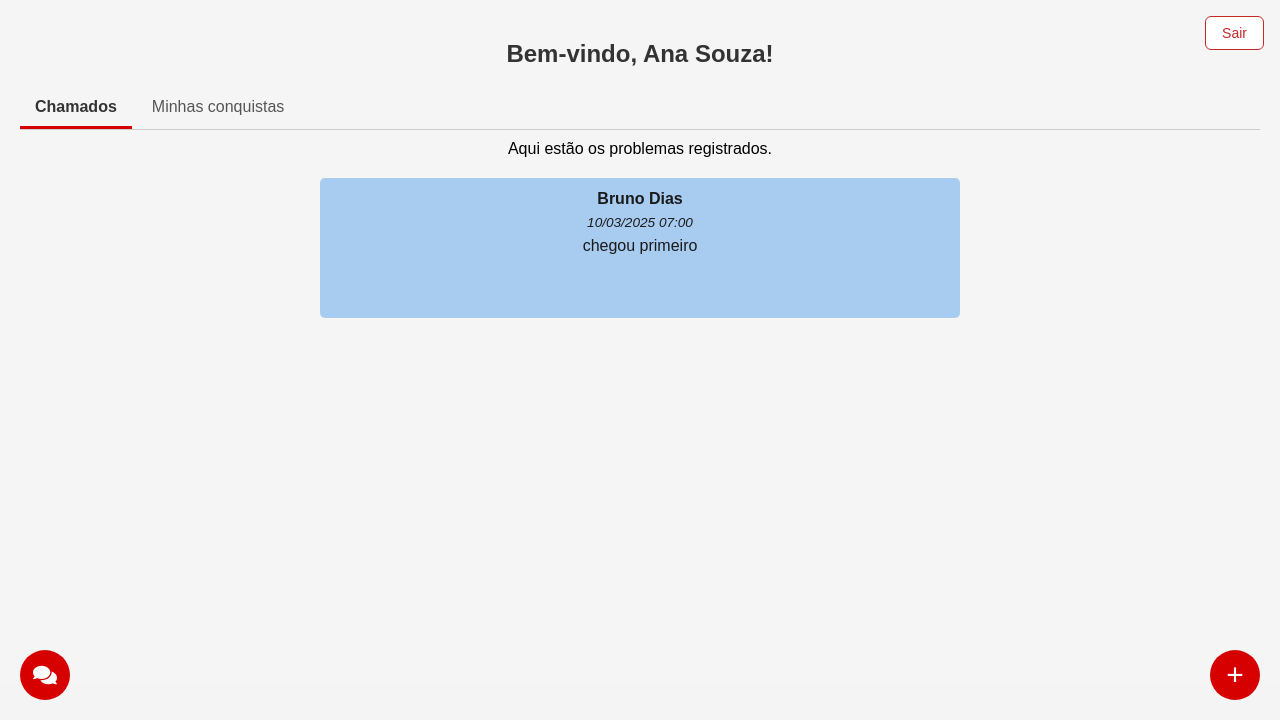
Test: TelaAluno — o relógio da máquina não move a fila (AC-TEMPO-02) › o horário exibido é o do servidor, não o que o relógio da máquina marcava
Click the button named "Abrir novo chamado".
click(1235, 675)  # box x1=1210 y1=650 x2=1260 y2=700
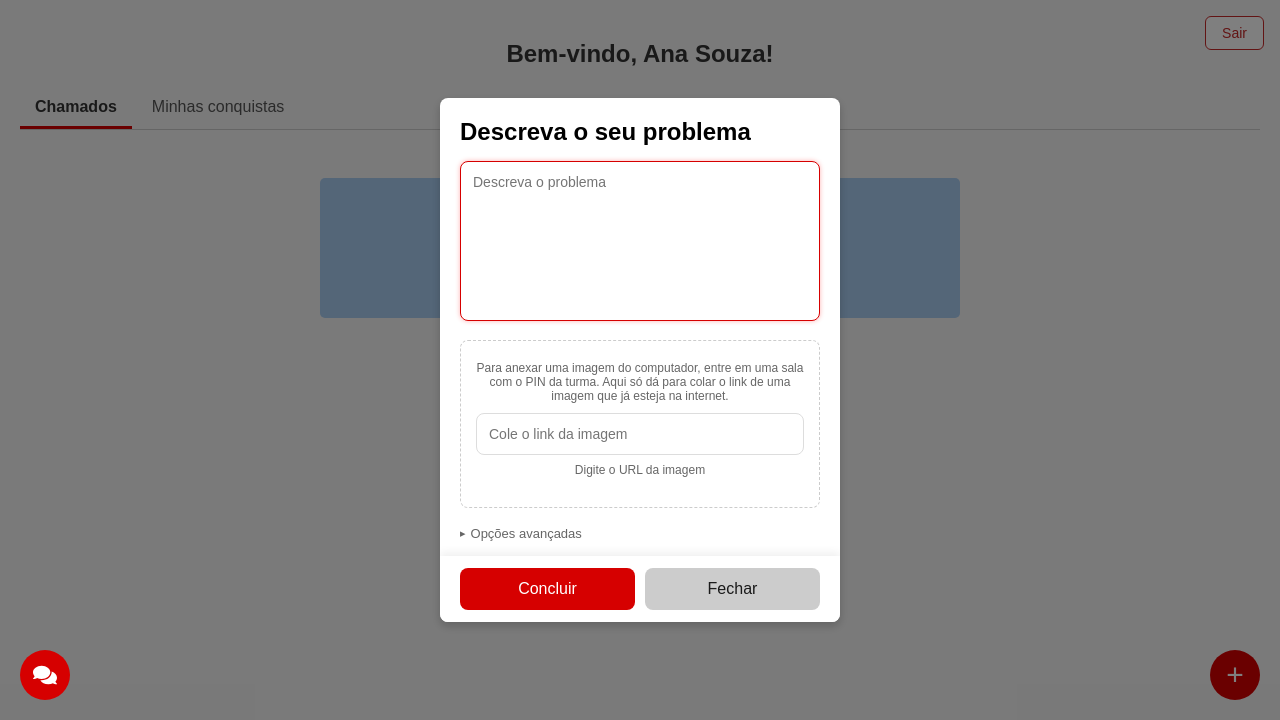
Type "chegou depois" into the text box with placeholder "Descreva o problema".
click(640, 241); type("chegou depois")  # box x1=460 y1=161 x2=820 y2=321
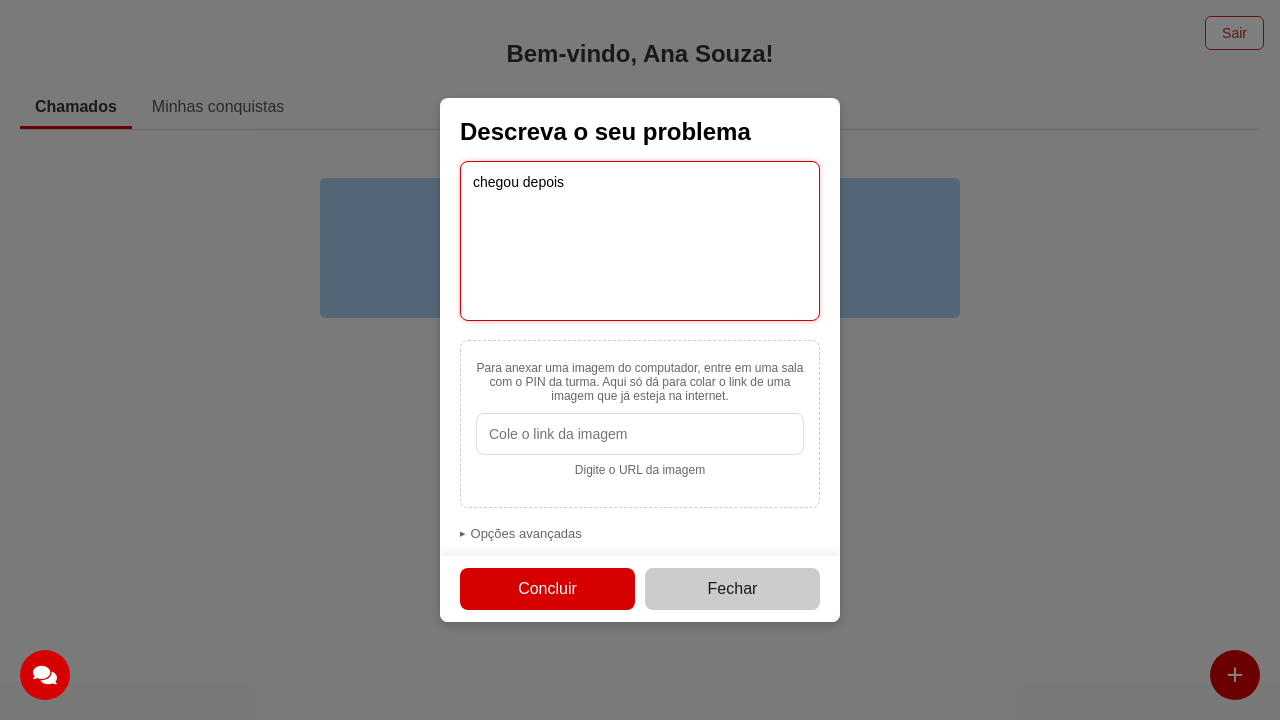
Click the button "Concluir".
click(548, 589)  # box x1=460 y1=568 x2=635 y2=610
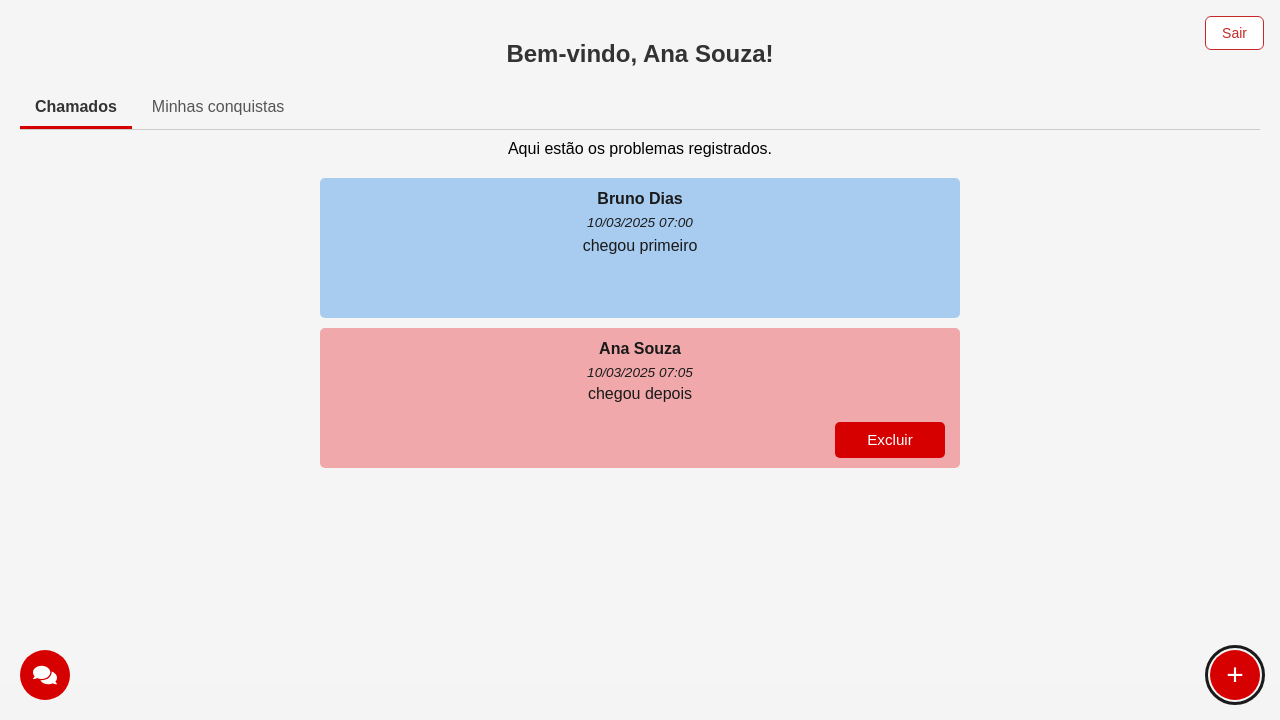
Expected: the text "10/03/2025 07:05" is shown, x1=587 y1=365 x2=693 y2=380
